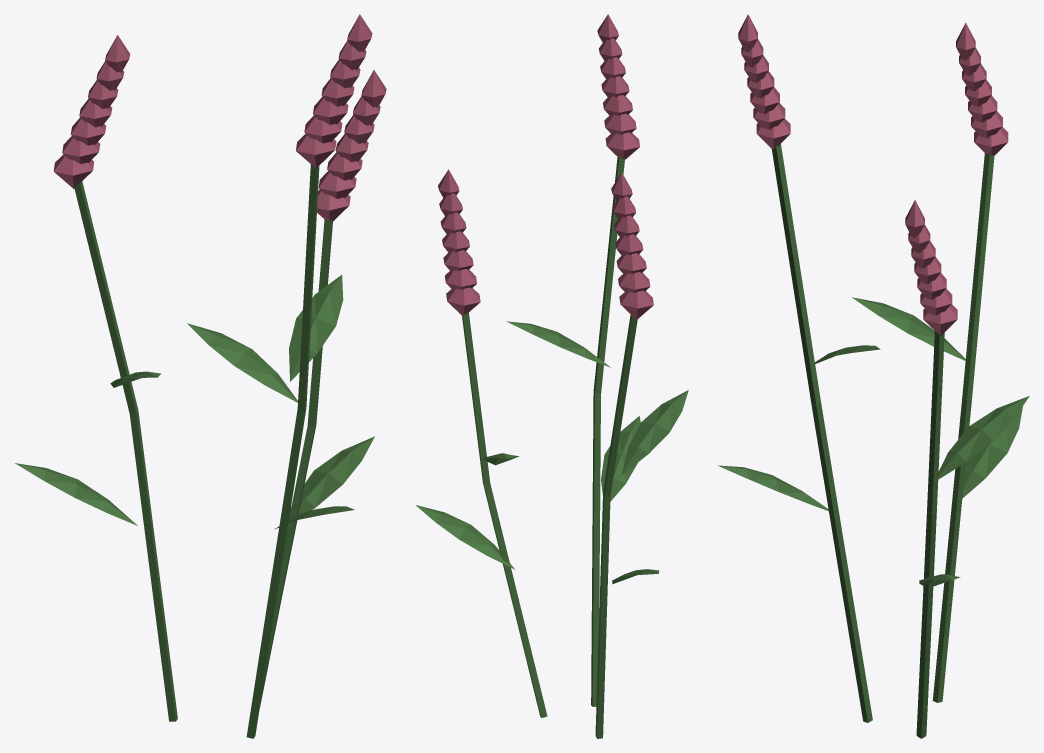
Rendered from flower_autumn_d.glb.
3 renders of one model, left to right at view 1: azimuth 30°, elevation 25°; view 2: azimuth 150°, elevation 25°; view 3: azimuth 270°, elevation 25°, orthographic. The views are drawn at different scales.
Parts seen in each view (by area): view 1: plant; view 2: plant; view 3: plant.
Boxes of the visible parts, x1,y1,x2,y2 form: plant: (15,14,386,738); plant: (415,14,688,738); plant: (717,14,1029,738).
Bounding box in the file's own units: 0.2057 × 0.46 × 0.1788.
